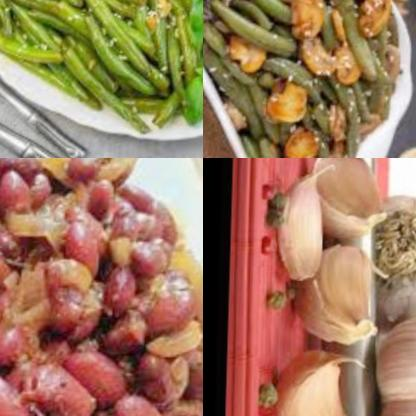fasol: (0, 158, 203, 416), (0, 0, 203, 103), (203, 1, 296, 158), (264, 55, 358, 126), (203, 0, 306, 58), (284, 0, 399, 36), (361, 57, 397, 123)
garlic: (299, 240, 379, 352), (275, 163, 332, 289), (312, 158, 395, 242), (273, 344, 361, 416), (376, 186, 416, 333)
